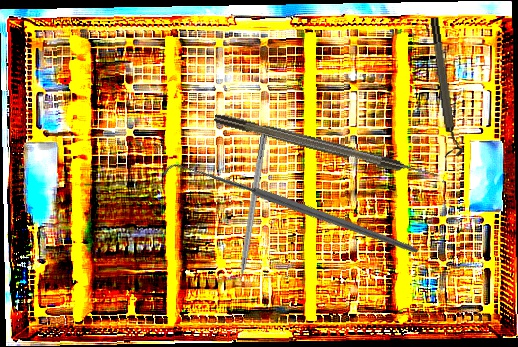Fixation Ring: (427, 16, 464, 158)
Hook Surgical: (160, 75, 422, 347), (213, 111, 441, 183), (232, 131, 269, 302)
